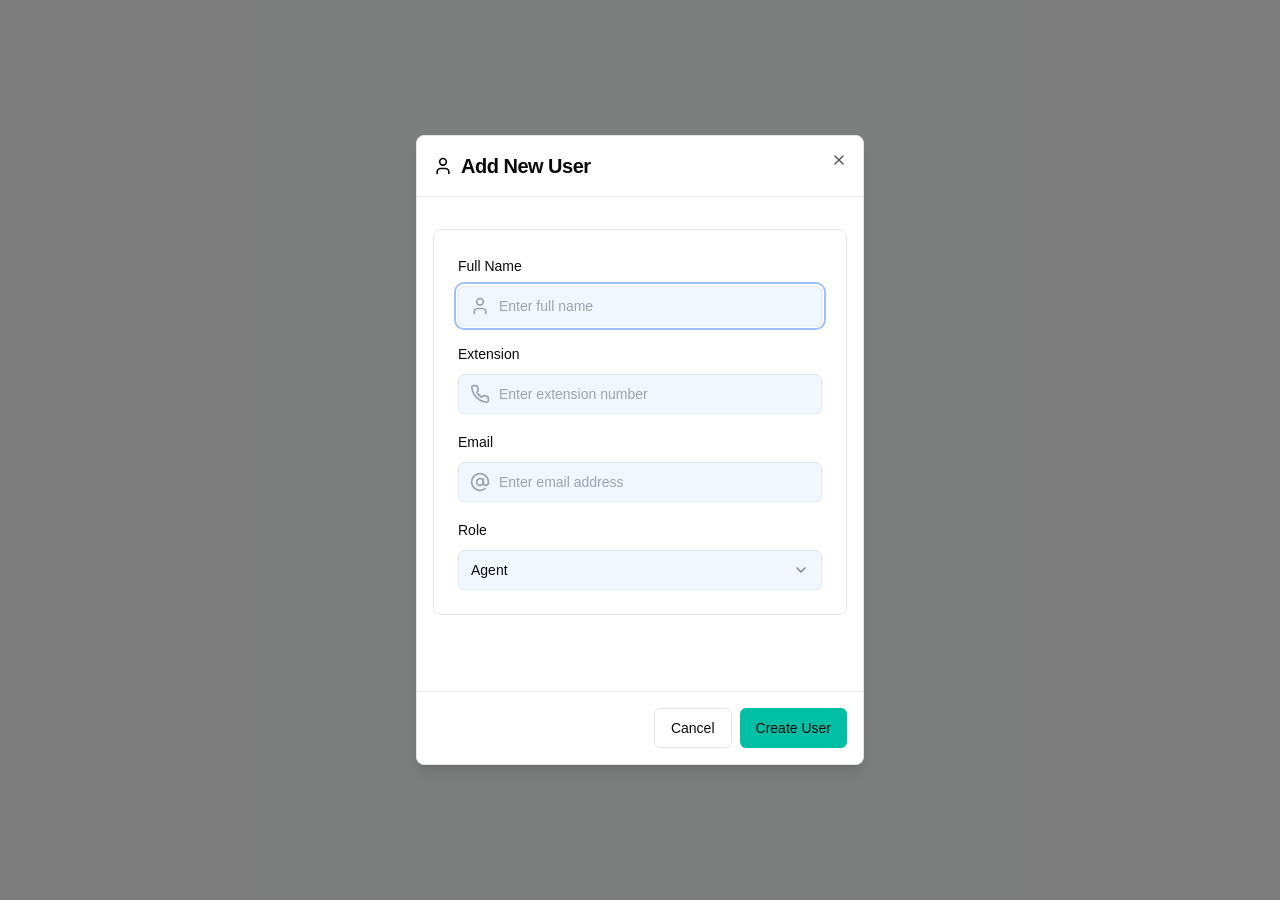
Test case: AddUserModal › Validation › shows error for non-numeric extension
The image size is (1280, 900).
Type "abc" into the field labelled "Extension".
click(640, 394); type("abc")  # box [458,374,822,414]
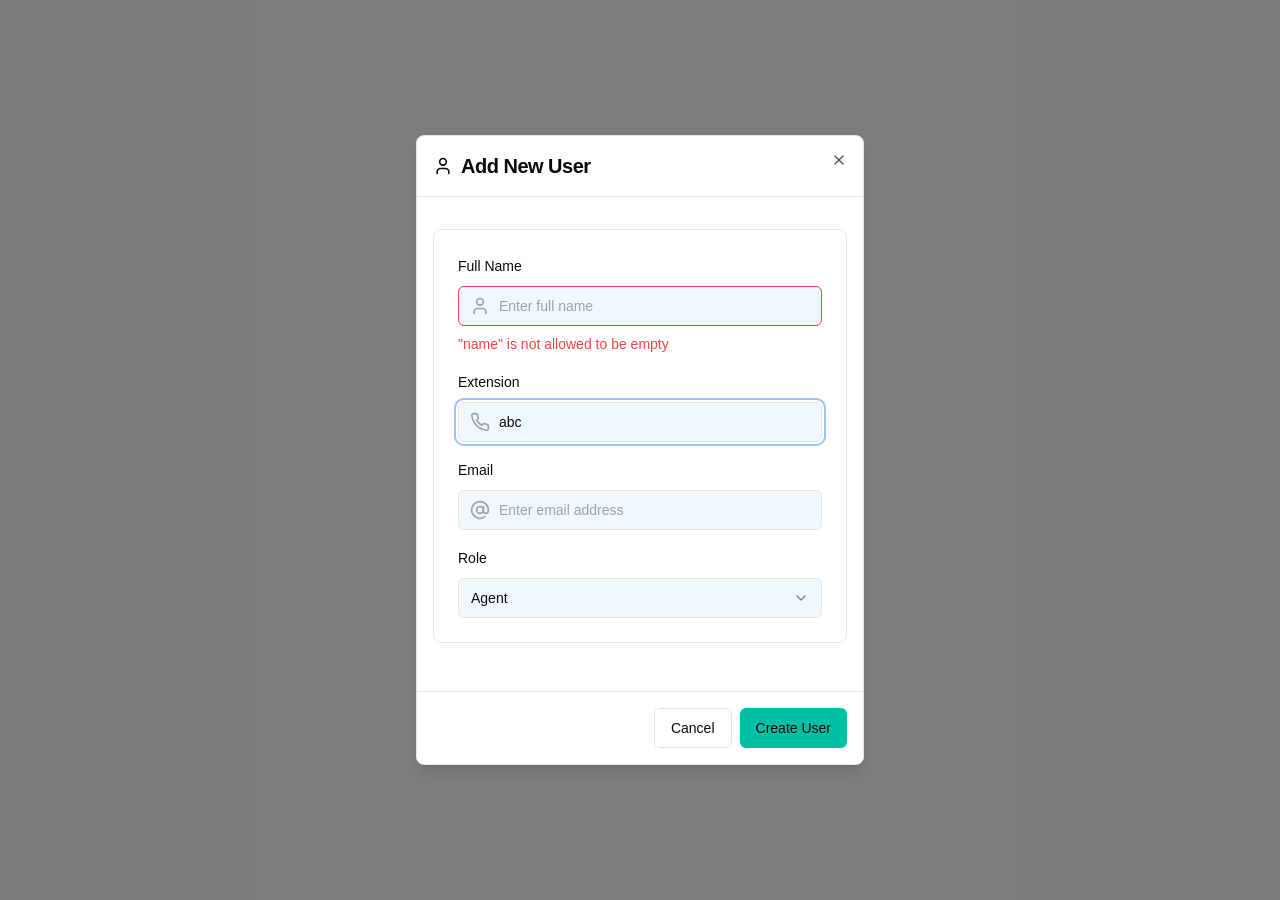
Leave the field labelled "Extension", box [458,402,822,442]
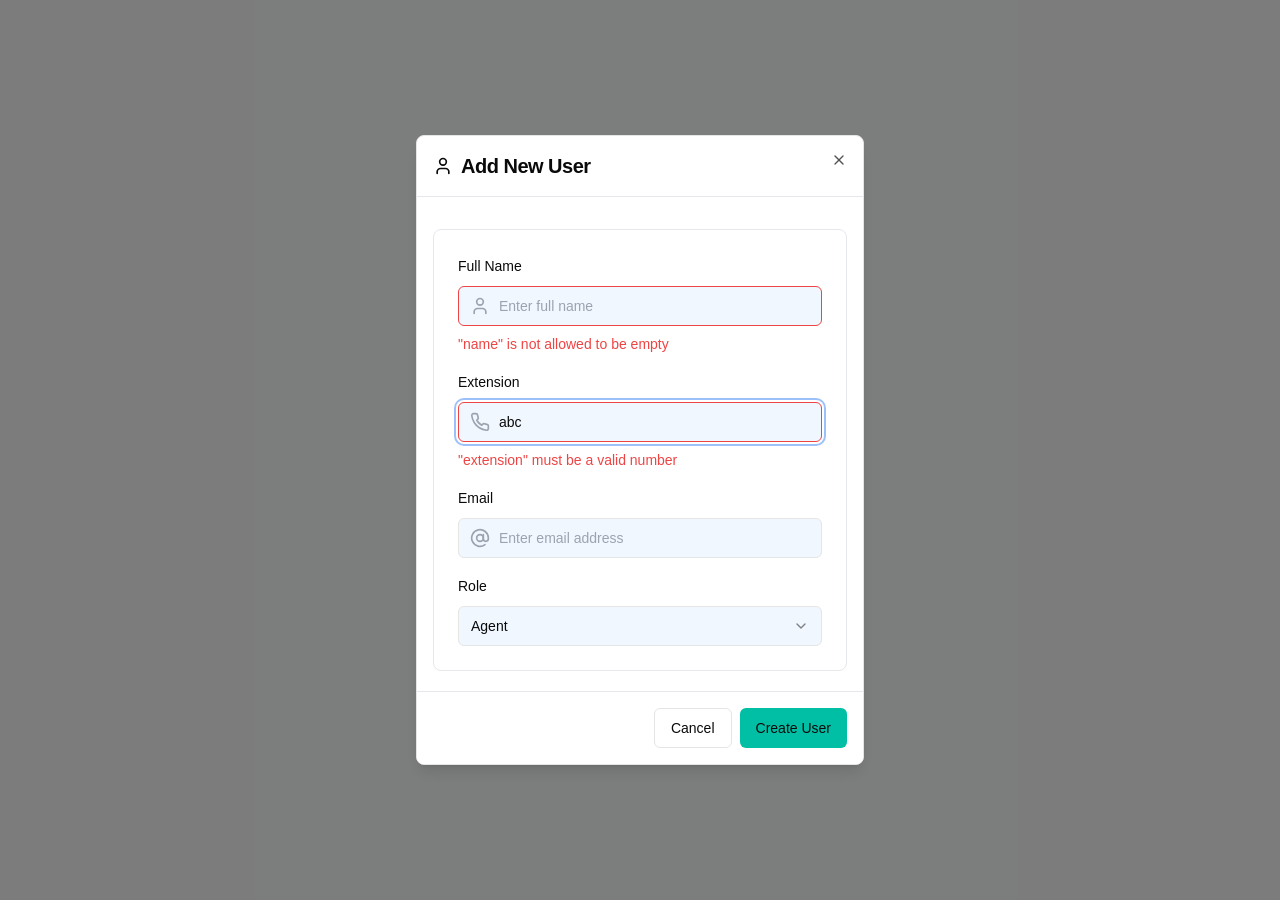
Now the text "\"extension\" must be a valid number" is shown, box [458,452,677,468]
